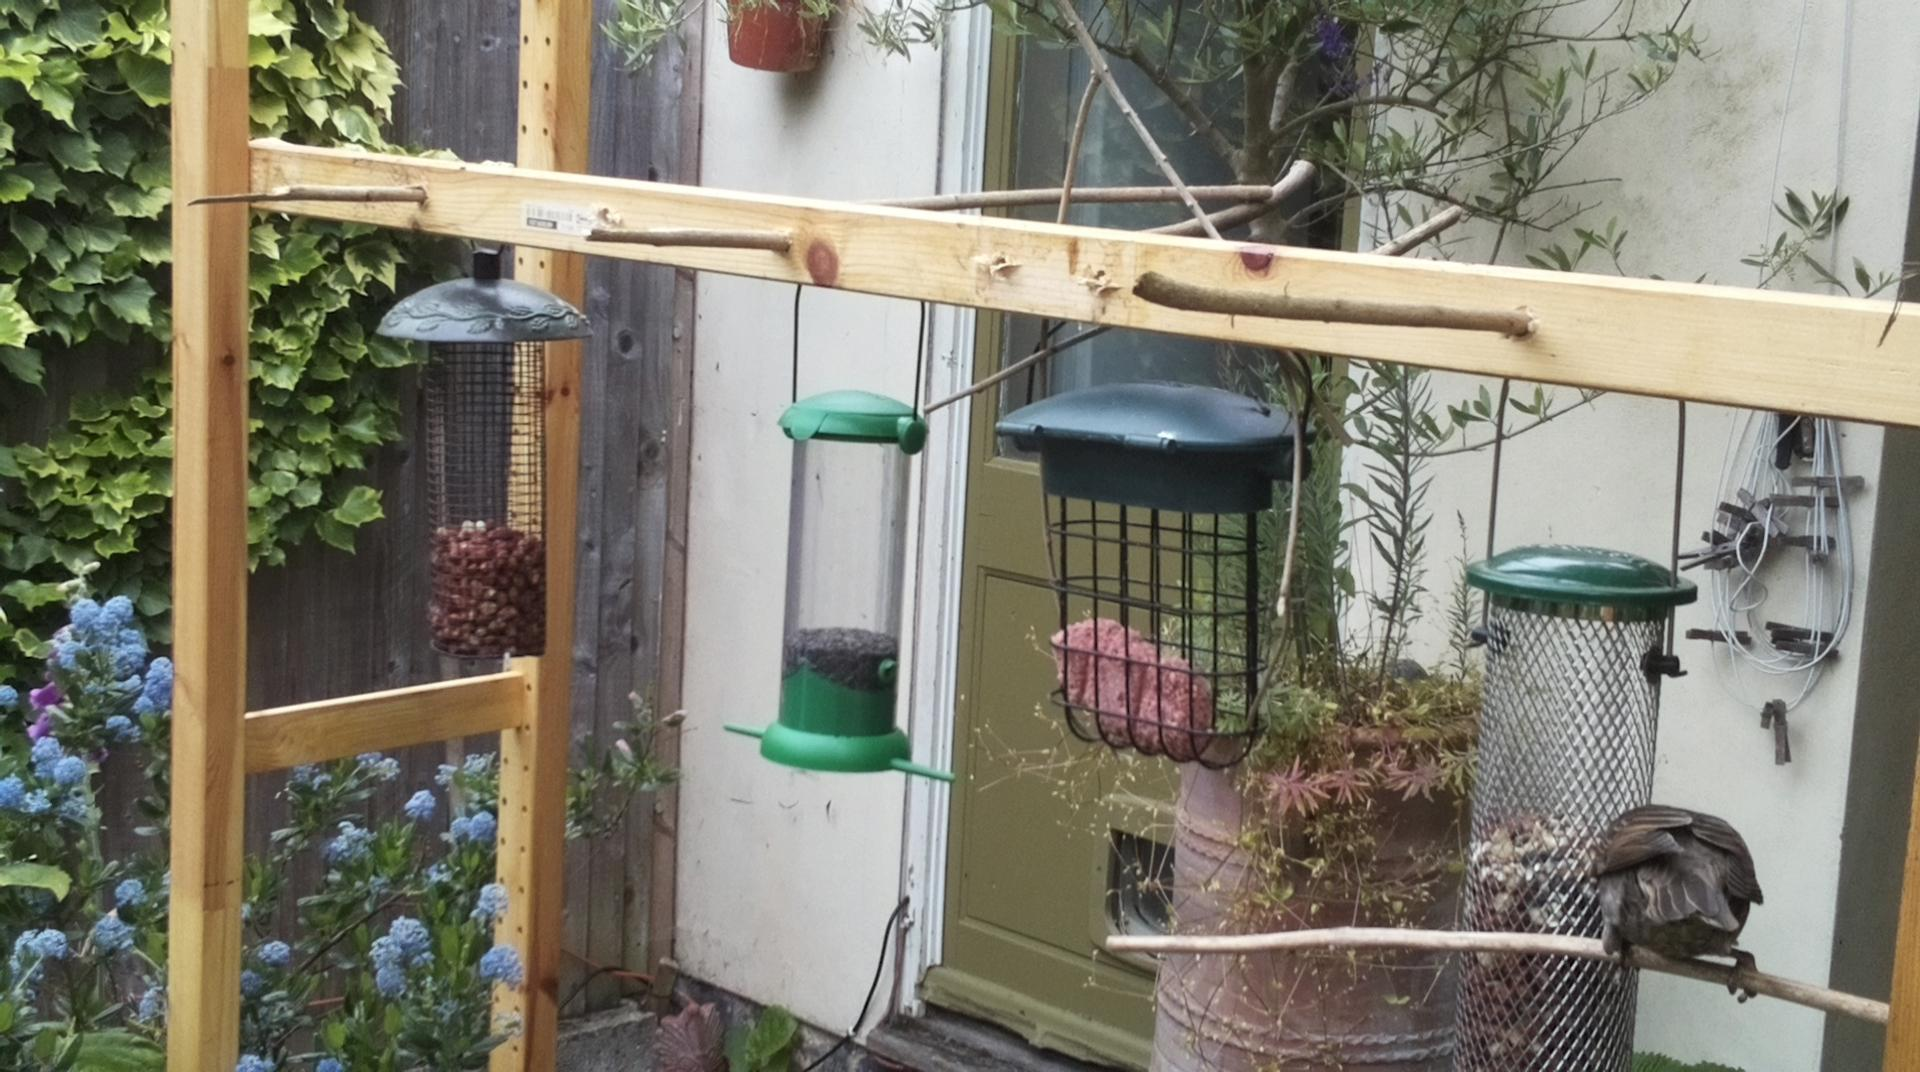starling: (1596, 803, 1764, 1006)
